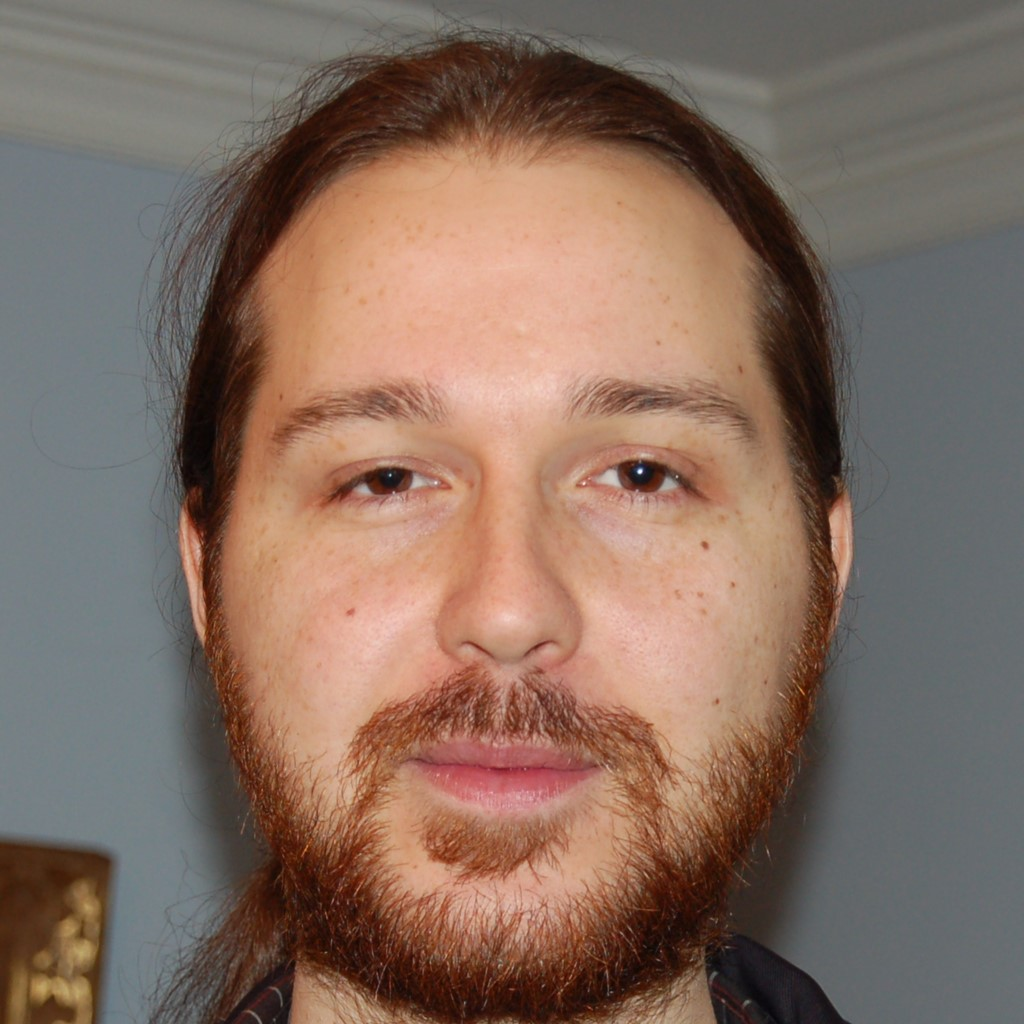sin_mascara: (224, 158, 799, 977)
